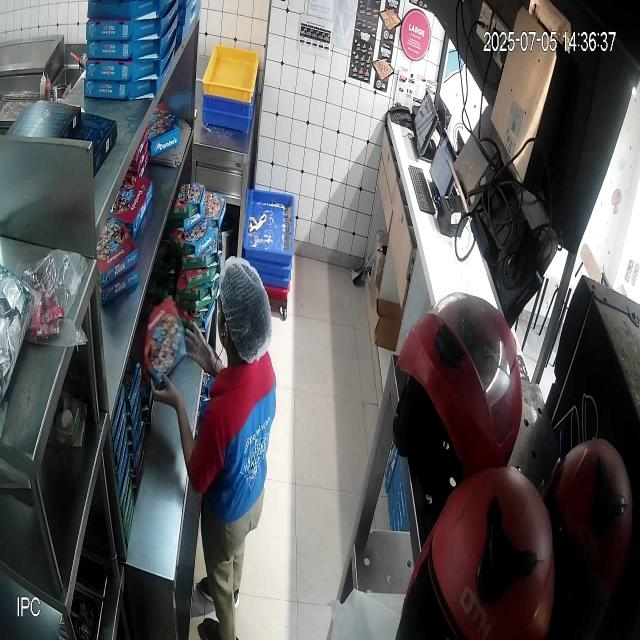helmet: (396, 465, 561, 639), (391, 295, 525, 500)
